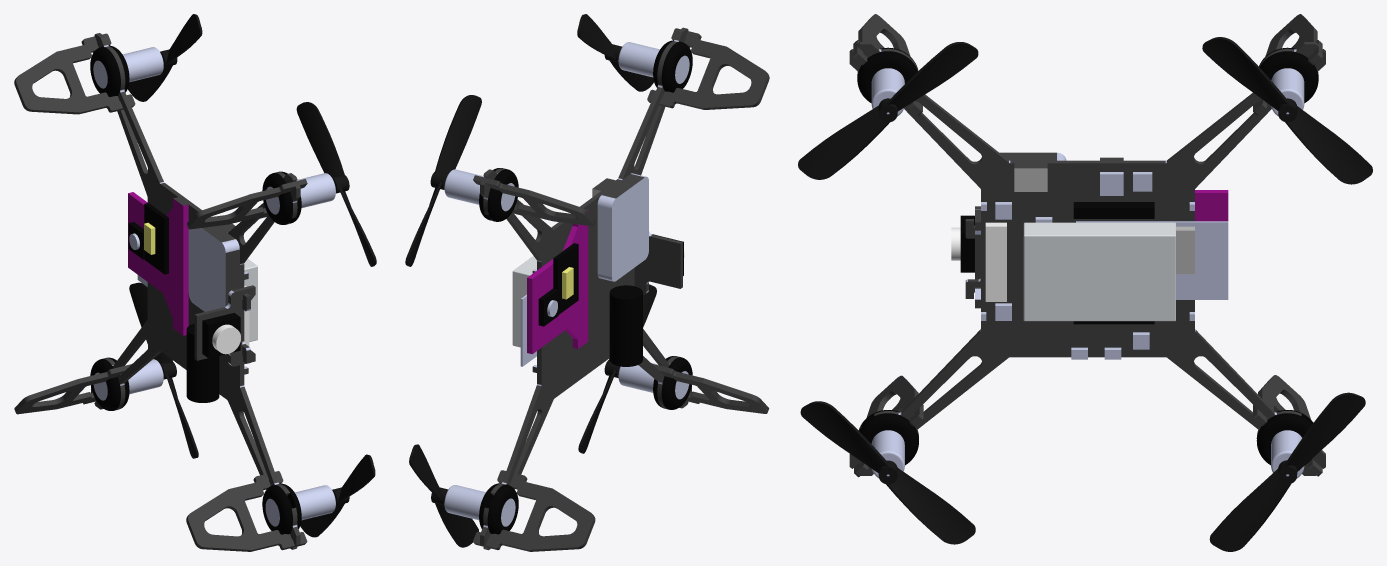
The model's file is espdrone.dae.
3 renders of one model, left to right at view 1: azimuth 30°, elevation 25°; view 2: azimuth 150°, elevation 25°; view 3: azimuth 270°, elevation 25°, orthographic. The views are drawn at different scales.
Parts seen in each view (by area): view 1: _3DGeom-384, _3DGeom-382, Body_1, Body_15, _3DGeom-381, Body_7, Body_13, Body_14, Body_4, Body_8, Body_19, _3DGeom-378 (+13 smaller); view 2: _3DGeom-384, _3DGeom-381, _3DGeom-382, Body_14, Body_13, Body_4, Body_8, _3DGeom-115, Body_15, Body_1, Body_20, _3DGeom-378 (+11 smaller); view 3: _3DGeom-384, Body_2, _3DGeom-381, Body_7, Body_19, Body_8, Body_20, _3DGeom-383, _3DGeom-379, _3DGeom-378, Body_9, Body_11 (+12 smaller).
Boxes of the visible parts, bbox=[...] form: _3DGeom-384: bbox=[91, 33, 300, 549]; _3DGeom-382: bbox=[128, 192, 188, 335]; Body_1: bbox=[186, 471, 307, 551]; Body_15: bbox=[14, 33, 135, 114]; _3DGeom-381: bbox=[104, 45, 297, 527]; Body_7: bbox=[296, 102, 376, 266]; Body_13: bbox=[186, 179, 307, 229]; Body_14: bbox=[14, 364, 131, 414]; Body_4: bbox=[186, 323, 219, 402]; Body_8: bbox=[128, 14, 202, 101]; Body_19: bbox=[300, 454, 375, 537]; _3DGeom-378: bbox=[128, 203, 168, 274]; _3DGeom-384: bbox=[480, 27, 691, 550]; _3DGeom-381: bbox=[483, 40, 678, 527]; _3DGeom-382: bbox=[527, 210, 588, 354]; Body_14: bbox=[473, 470, 595, 551]; Body_13: bbox=[647, 28, 769, 109]; Body_4: bbox=[609, 285, 642, 366]; Body_8: bbox=[405, 95, 481, 266]; _3DGeom-115: bbox=[634, 234, 682, 294]; Body_15: bbox=[473, 175, 595, 226]; Body_1: bbox=[652, 364, 769, 413]; Body_20: bbox=[409, 444, 478, 547]; _3DGeom-378: bbox=[538, 243, 578, 326]; _3DGeom-384: bbox=[849, 42, 1325, 475]; Body_2: bbox=[1023, 222, 1175, 321]; _3DGeom-381: bbox=[879, 49, 1296, 414]; Body_7: bbox=[798, 42, 978, 179]; Body_19: bbox=[800, 401, 975, 544]; Body_8: bbox=[1202, 37, 1372, 184]; Body_20: bbox=[1209, 392, 1365, 551]; _3DGeom-383: bbox=[985, 222, 1006, 301]; _3DGeom-379: bbox=[1014, 168, 1194, 273]; _3DGeom-378: bbox=[1073, 202, 1154, 324]; Body_9: bbox=[857, 47, 917, 103]; Body_11: bbox=[858, 410, 918, 465].
Bounding box in the file's own units: 0.0433 × 0.1209 × 0.1194.
